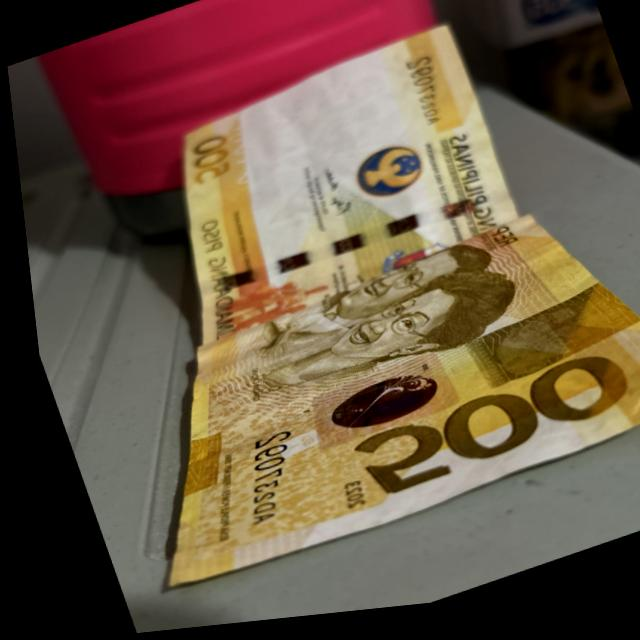concealed_value: (471, 306, 598, 390)
optically_variable_device: (311, 366, 432, 443)
see_through_mark: (203, 113, 264, 203)
serial_number: (211, 418, 306, 544), (385, 52, 458, 148)
value: (332, 354, 634, 514)
